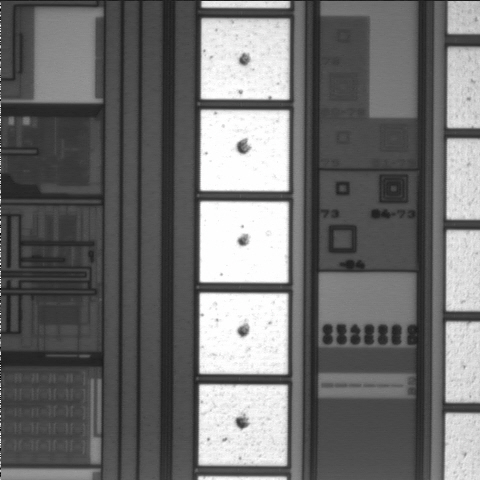pad: (200, 201, 289, 283), (201, 19, 290, 100), (200, 110, 289, 191), (199, 293, 288, 374), (199, 385, 288, 466)
